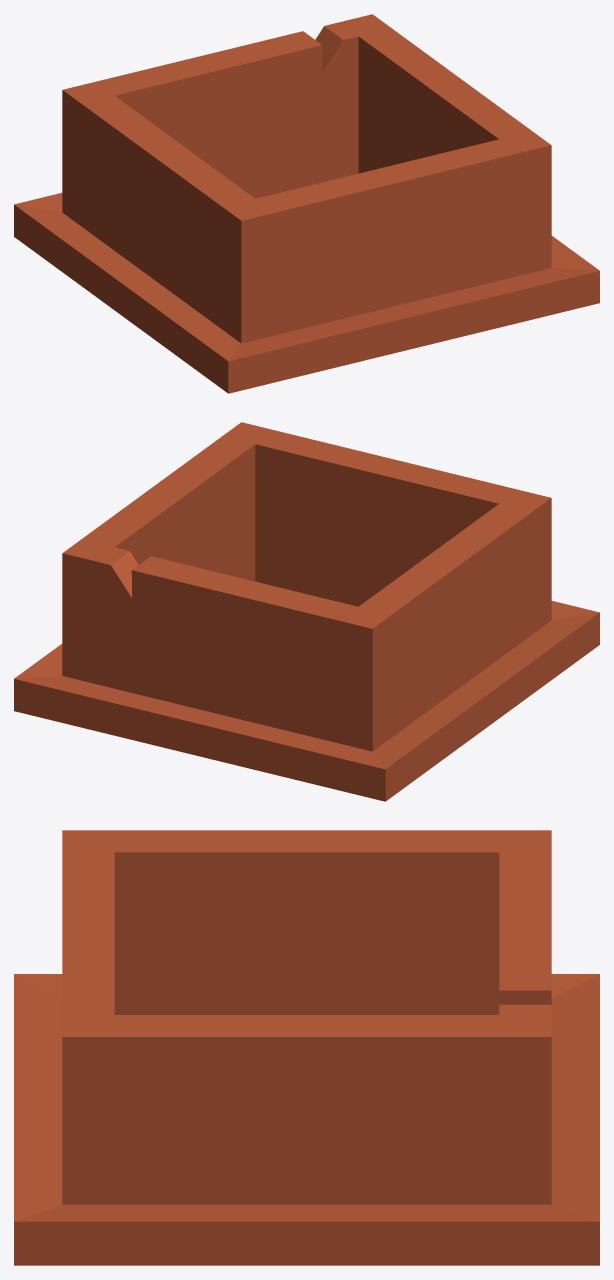
Rendered from base sotano final fbx.fbx.
The picture shows the model from 3 angles, top to bottom: view 1: azimuth 30°, elevation 25°; view 2: azimuth 150°, elevation 25°; view 3: azimuth 270°, elevation 25°; orthographic projection. The views are drawn at different scales.
Visible parts, largest first — view 1: base entrada sótano final; view 2: base entrada sótano final; view 3: base entrada sótano final.
Part boxes in pixels (bbox=[...]): base entrada sótano final: bbox=[14, 14, 599, 393]; base entrada sótano final: bbox=[14, 422, 599, 801]; base entrada sótano final: bbox=[14, 830, 599, 1265].
Bounding box in the file's own units: 439 × 172 × 439.
